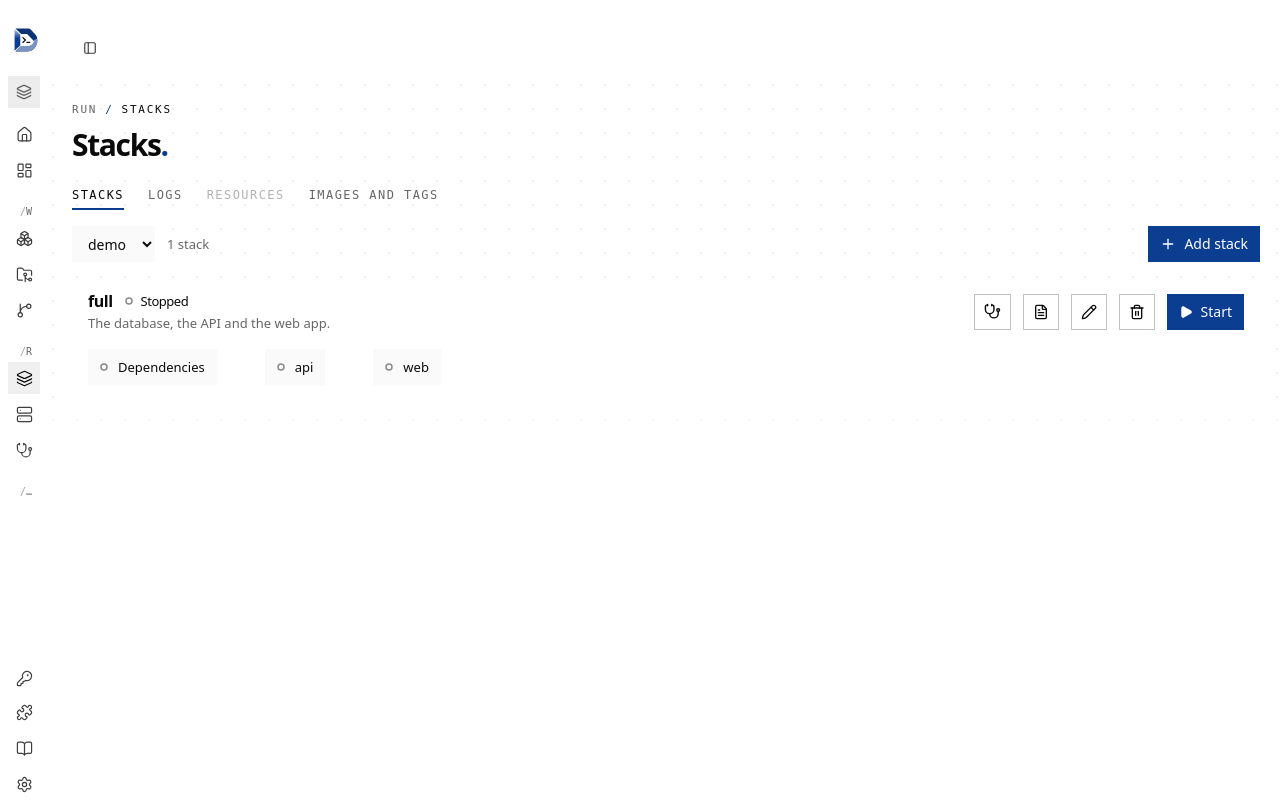
stacks page › starts a stack and shows its services at once
Click the button "Start" at [1205, 312], box x1=1167 y1=294 x2=1244 y2=330
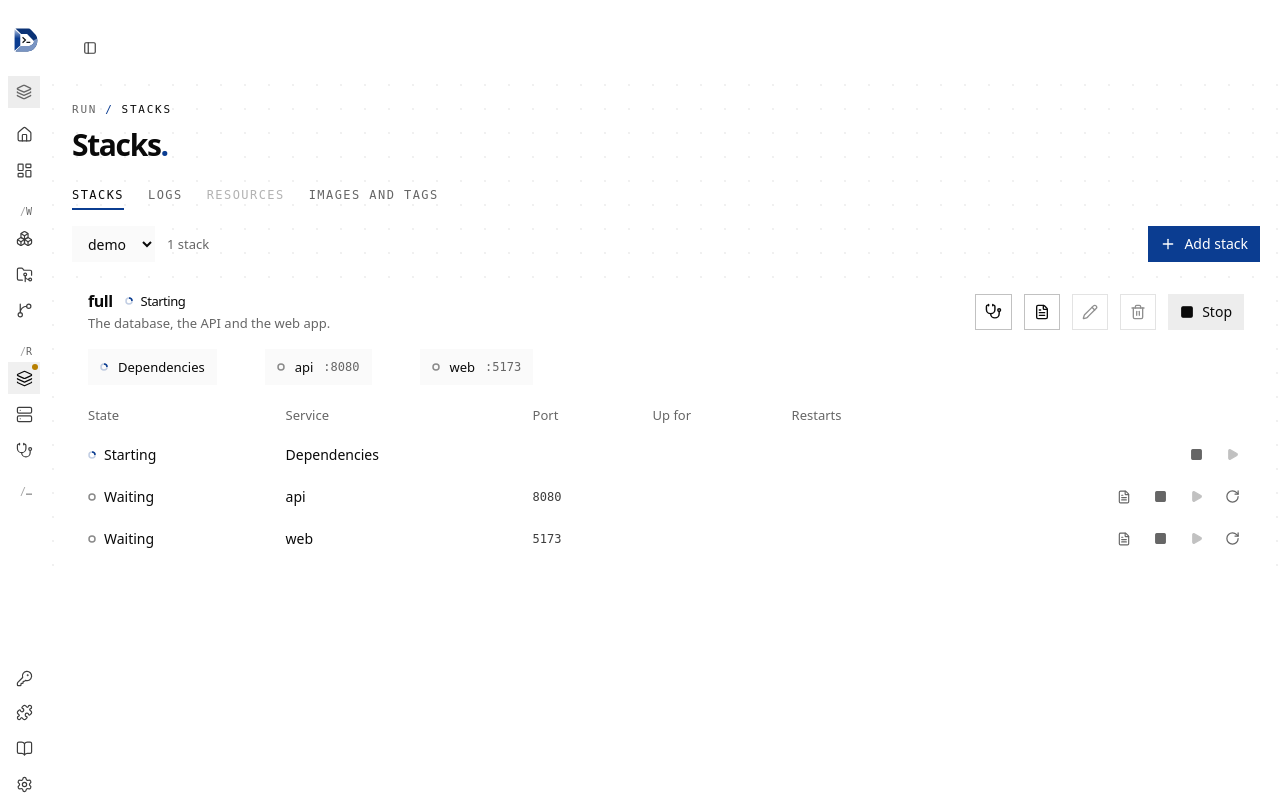
Expected: the text "Dependencies" is shown, x1=270 y1=434 x2=517 y2=476
Expected: the text "Starting" below "State" is shown, x1=104 y1=445 x2=156 y2=464
Expected: the text "Waiting" is shown 2 times, x1=88 y1=487 x2=154 y2=507; x1=88 y1=529 x2=154 y2=549
